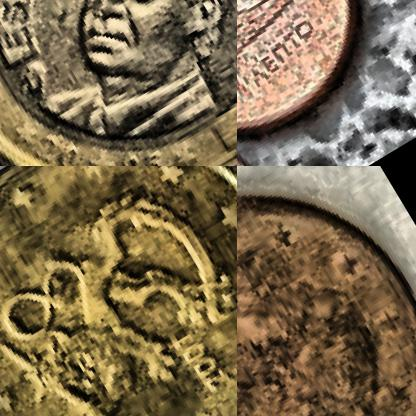coin: (0, 166, 236, 415), (237, 166, 415, 415), (0, 0, 236, 165), (237, 0, 403, 165)
